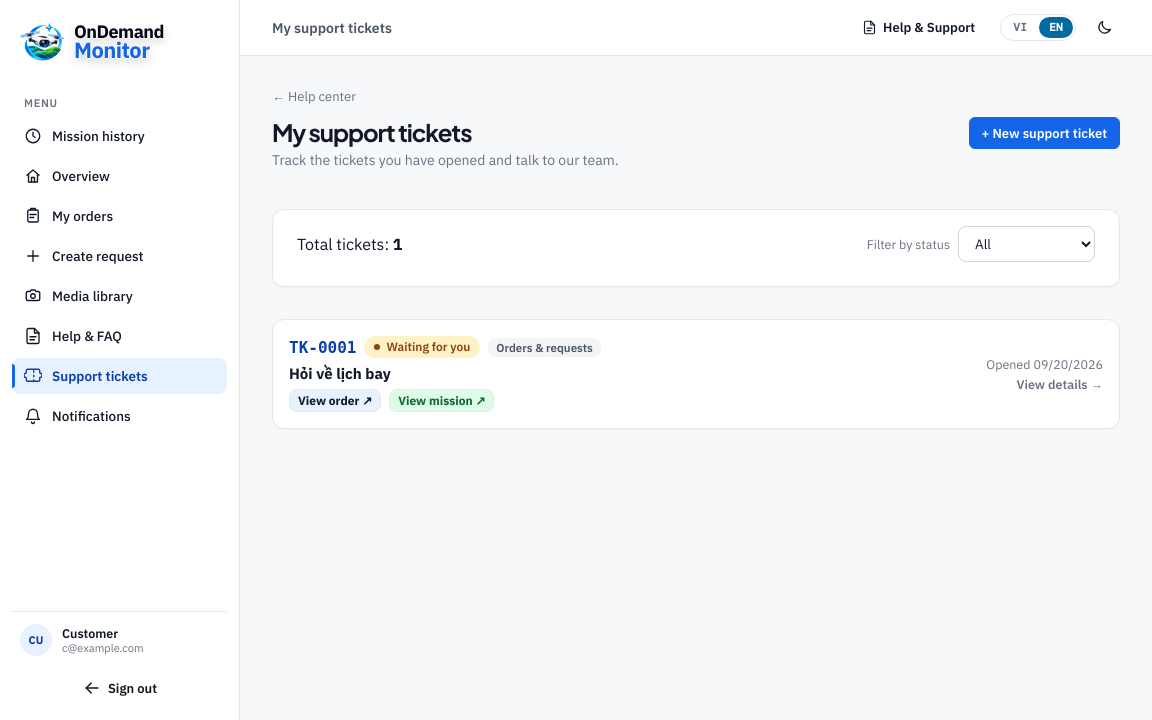
Scenario: Support pages i18n (vi -> en) › create ticket dialog: validation, options and success view are English
Click the button "+ New support ticket": click(1044, 133) 968,117 -> 1120,149
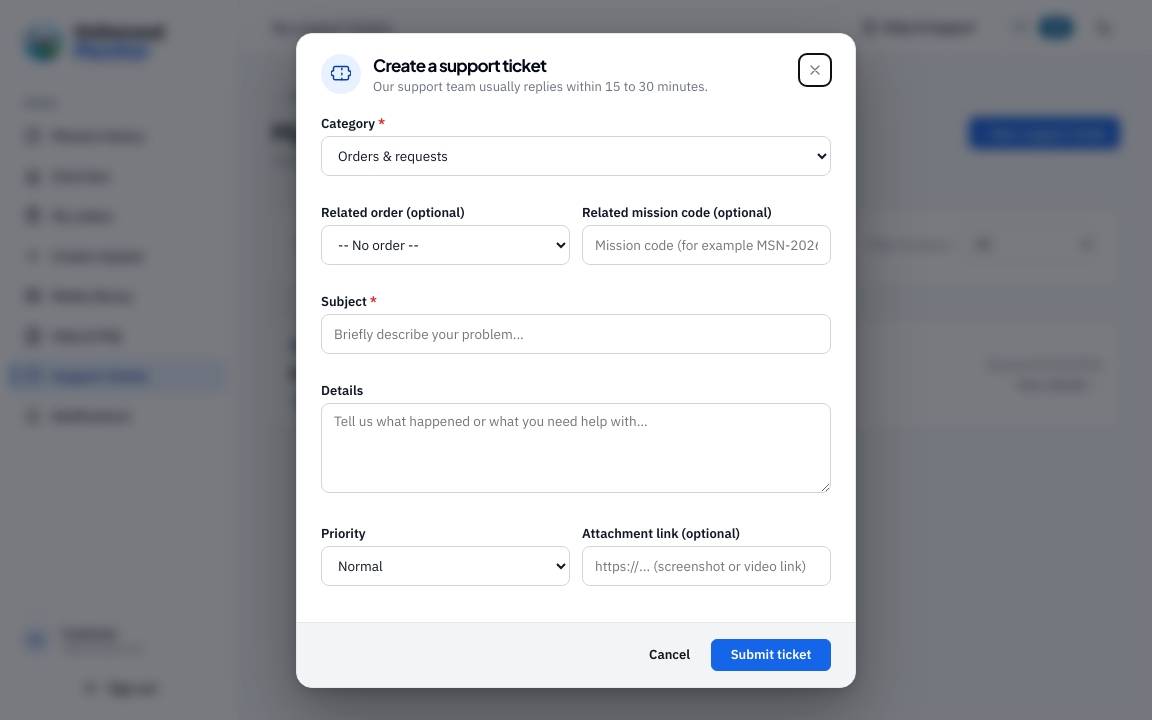
Expected: the dialog is shown, 296,32 -> 856,688
Click the button "Submit ticket": click(771, 654) 711,638 -> 831,670
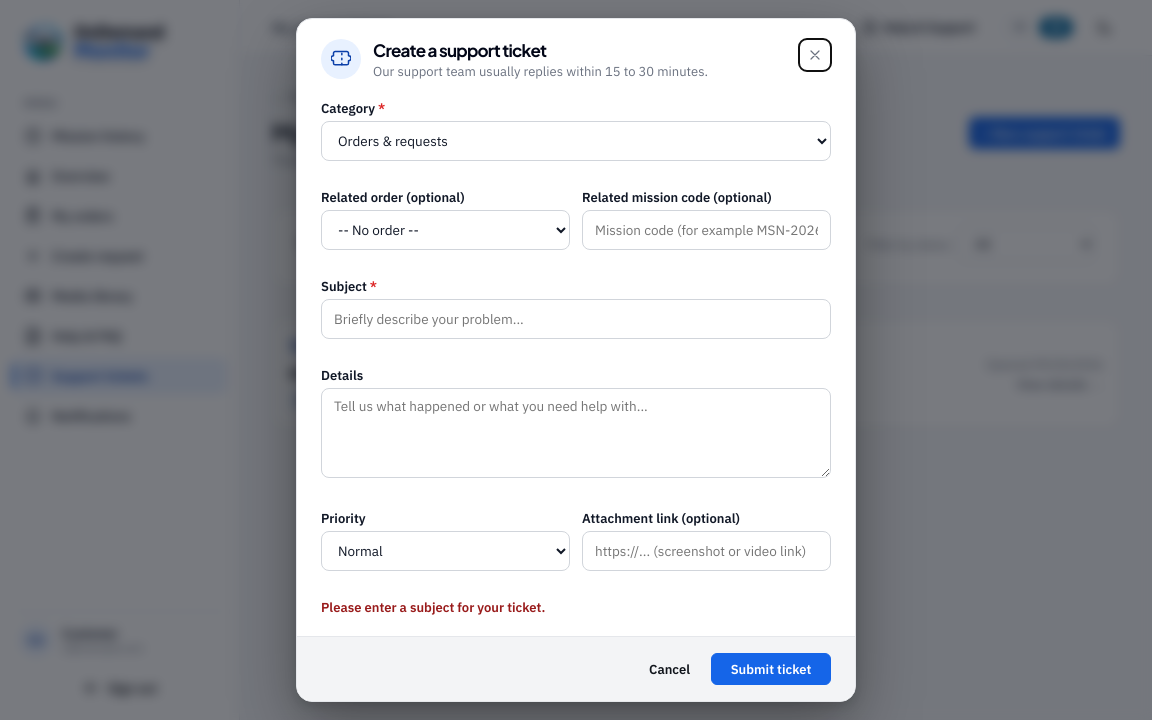
Expected: the text "Please enter a subject for your ticket." is shown, 321,599 -> 545,616
In the field labelled "Subject *": (576, 319) 321,299 -> 831,339, type "Need help"
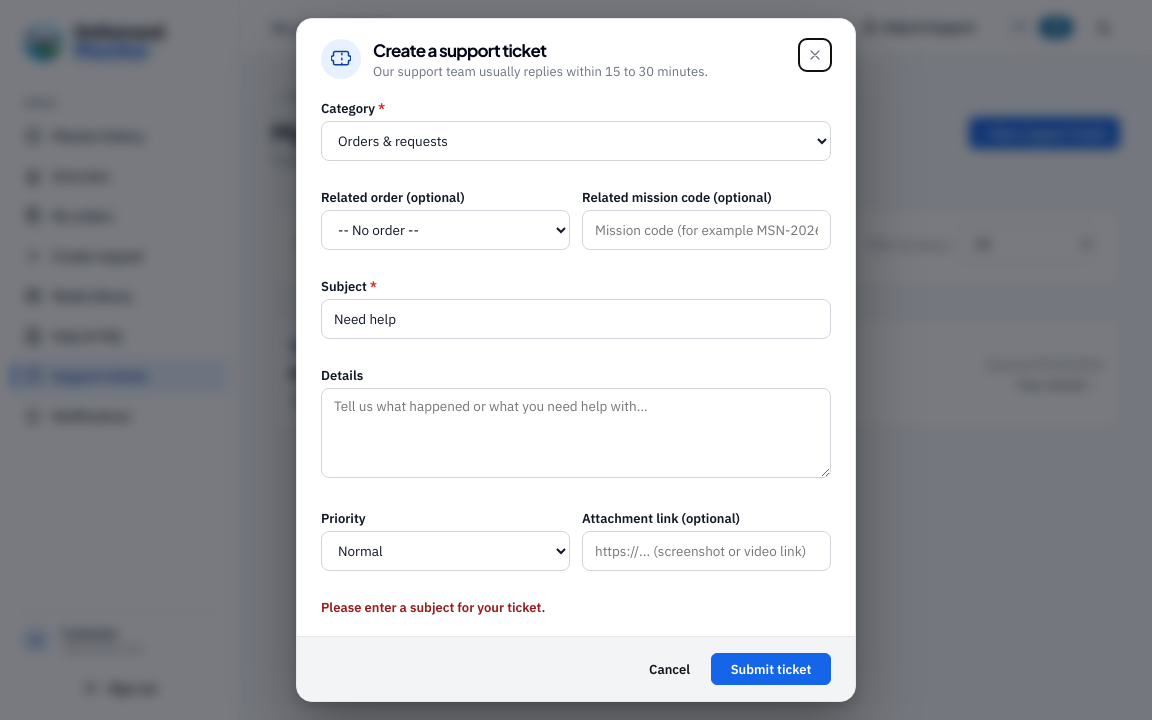
Click the button "Submit ticket": click(771, 669) 711,653 -> 831,685
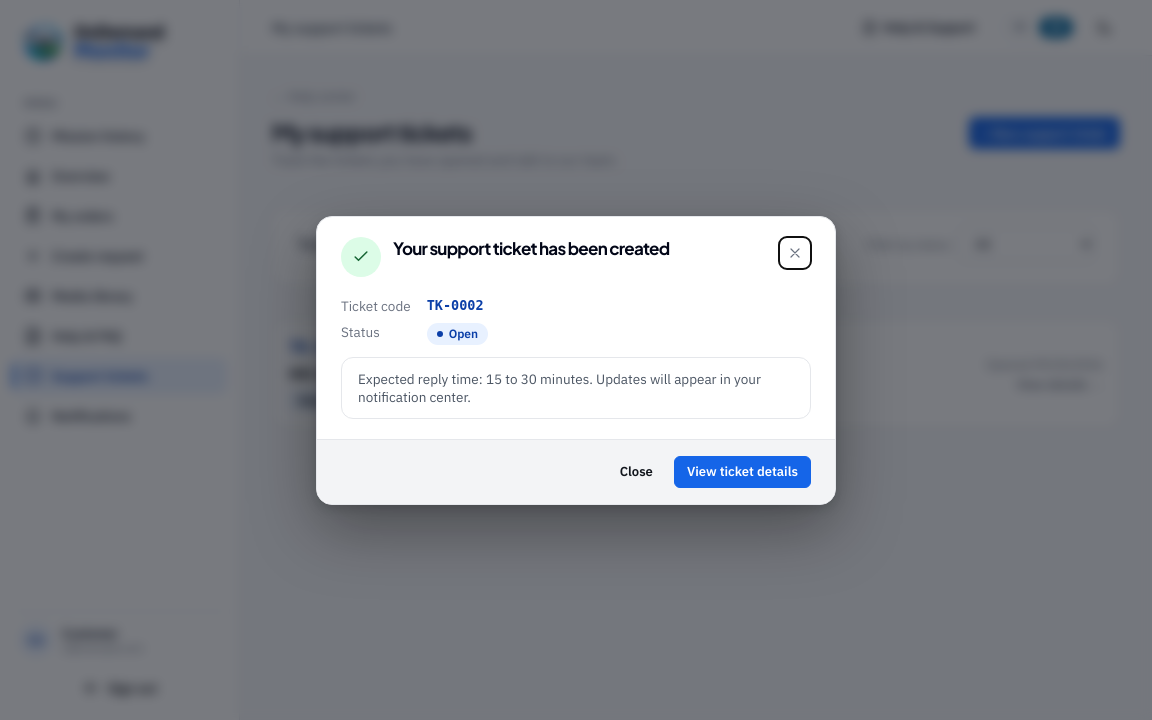
Expected: the heading "Your support ticket has been created" is shown, 393,236 -> 669,258
